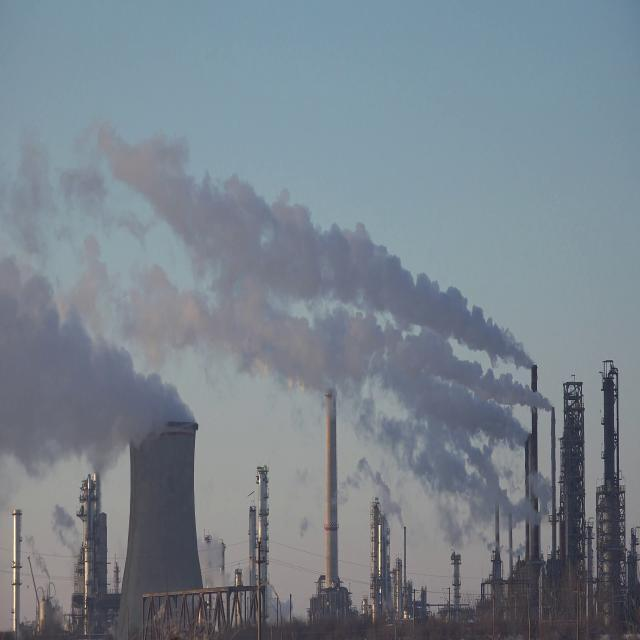Smoke: (0, 120, 554, 556)
